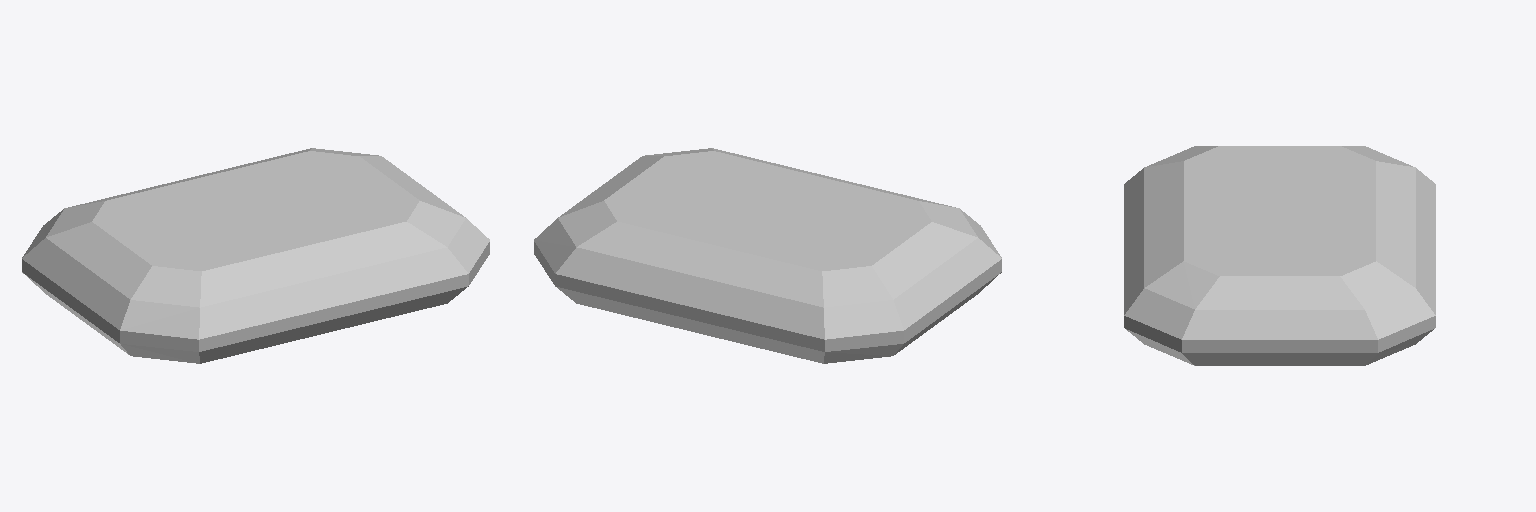
The picture shows the model from 3 angles: view 1: azimuth 30°, elevation 25°; view 2: azimuth 150°, elevation 25°; view 3: azimuth 270°, elevation 25°; orthographic projection.
Parts seen in each view (by area): view 1: Gemstone_04.003; view 2: Gemstone_04.003; view 3: Gemstone_04.003.
Part boxes in pixels (x1,y1,x2,y2): Gemstone_04.003: (22,148,489,363); Gemstone_04.003: (534,148,1001,363); Gemstone_04.003: (1124,146,1435,365).
Size of the model in its own units: 1.13 by 0.2613 by 0.8237.